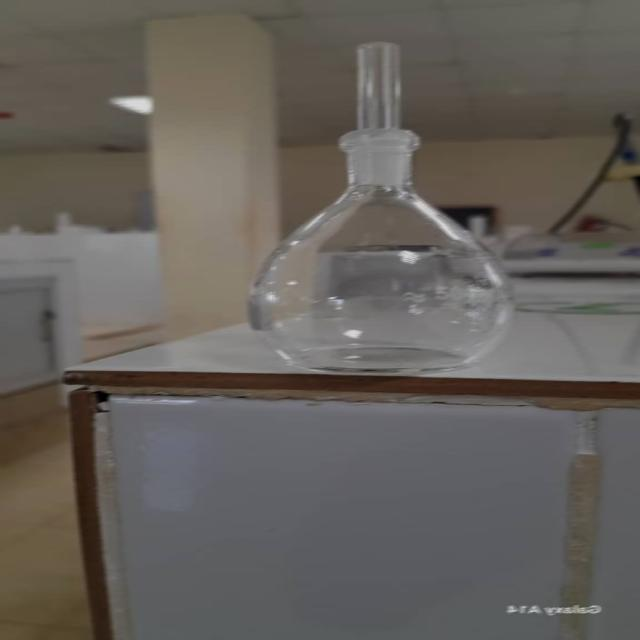Density Bottle for Liquids: (234, 41, 519, 370)
